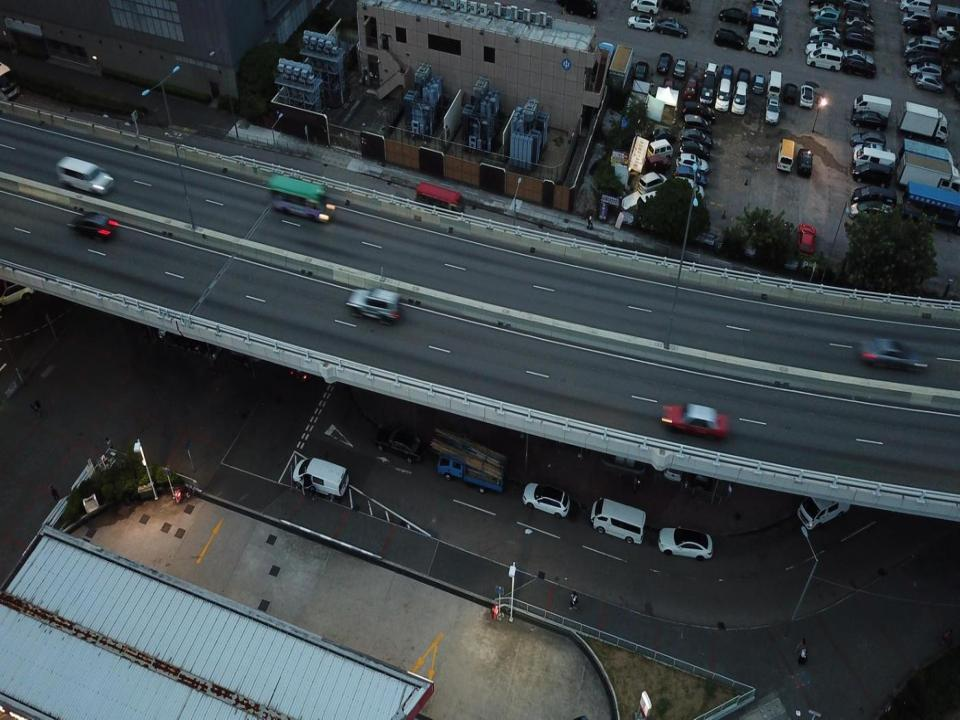bus: (262, 175, 340, 226), (410, 179, 467, 218)
car: (653, 388, 734, 438), (855, 330, 926, 374), (56, 154, 115, 196), (652, 524, 712, 564), (372, 424, 425, 468), (348, 282, 403, 322), (522, 480, 572, 520), (70, 210, 122, 244), (844, 195, 894, 224), (670, 176, 705, 207), (676, 137, 711, 164), (681, 100, 717, 126), (850, 184, 896, 204), (852, 160, 890, 184), (795, 221, 818, 260), (636, 168, 666, 197), (679, 127, 714, 151), (852, 108, 890, 130), (729, 79, 751, 117), (676, 152, 710, 176), (675, 167, 710, 190), (656, 16, 689, 40), (843, 30, 877, 53), (909, 60, 944, 82), (904, 36, 939, 58), (802, 40, 840, 60), (714, 78, 734, 113), (842, 57, 874, 78), (682, 114, 712, 136), (644, 154, 671, 178), (850, 132, 890, 148), (713, 28, 742, 50), (850, 142, 885, 160), (845, 14, 876, 34), (916, 73, 944, 95), (900, 8, 933, 26), (908, 33, 937, 53), (763, 94, 782, 124), (843, 46, 873, 65), (811, 7, 840, 26), (627, 14, 654, 34), (628, 0, 661, 16), (798, 147, 815, 177), (632, 58, 650, 86), (681, 74, 700, 100), (697, 78, 714, 107), (716, 9, 747, 24), (657, 49, 674, 76), (812, 26, 839, 43), (937, 20, 958, 41), (798, 83, 814, 110), (674, 54, 691, 78), (754, 72, 766, 95), (785, 78, 794, 102)
truck: (428, 428, 510, 497), (901, 181, 960, 228), (902, 152, 956, 190), (900, 139, 956, 174), (901, 97, 948, 138)
van: (587, 498, 649, 545), (790, 487, 859, 529), (292, 455, 350, 499), (850, 144, 896, 172), (853, 93, 892, 120), (747, 32, 779, 58), (752, 24, 785, 48), (806, 49, 842, 68), (751, 6, 784, 26), (776, 137, 794, 173), (649, 138, 671, 157), (768, 69, 783, 95), (702, 61, 720, 80), (720, 65, 735, 86), (736, 66, 748, 86)
